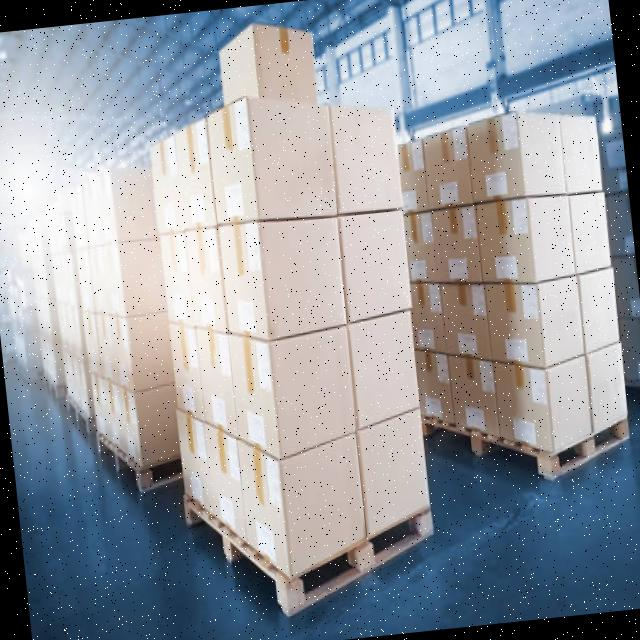Wooden-Pallets: (177, 481, 449, 630), (419, 400, 640, 501), (91, 416, 148, 511)
